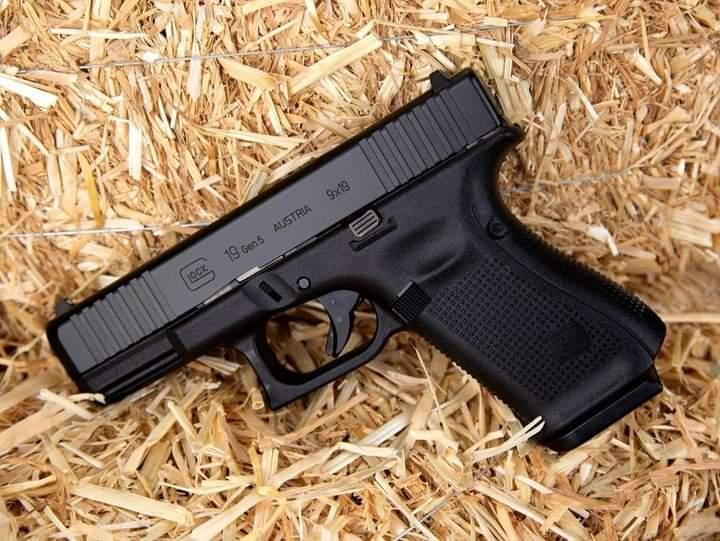weapon: (46, 67, 666, 453)
